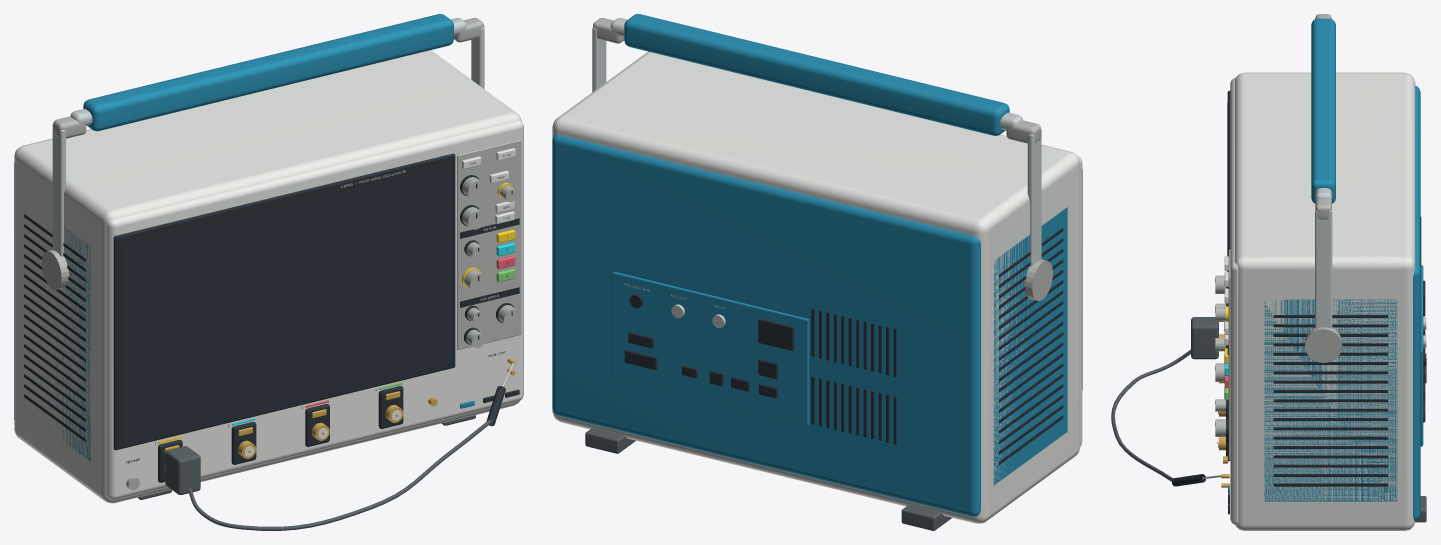
Rendered from mso64b.glb.
3 views of the same model, side by side, from view 1: azimuth 30°, elevation 25°; view 2: azimuth 150°, elevation 25°; view 3: azimuth 270°, elevation 25° (orthographic). The views are drawn at different scales.
Parts seen in each view (by area): view 1: Display_active, Main_enclosure, Front_bezel, Handle_blue_grip, Display_bezel, Controls_field, Side_blue_grille-1, Probe_CH1_lead, Handle_yoke_-1, Probe_CH1_TekVPI, Handle_pivot_hub_-1, Handle_yoke_1 (+3 smaller); view 2: Rear_blue_shell, Main_enclosure, Rear_IO_panel, Handle_blue_grip, Side_blue_grille-1, Handle_yoke_-1, Handle_pivot_hub_-1, IEC_power, Foot_1_72, Foot_-1_72, Front_bezel, Handle_yoke_1; view 3: Main_enclosure, Side_blue_grille1, Handle_blue_grip, Front_bezel, Rear_blue_shell, Handle_yoke_1, Probe_CH1_TekVPI, Handle_pivot_hub_1, Probe_CH1_lead, Rear_IO_panel, Display_bezel, Controls_field (+10 smaller).
Part boxes in pixels (x1,y1,x2,y2): Display_active: (121, 165, 450, 439); Main_enclosure: (14, 50, 521, 503); Front_bezel: (106, 120, 523, 499); Handle_blue_grip: (83, 14, 453, 131); Display_bezel: (113, 153, 455, 450); Controls_field: (457, 140, 521, 349); Side_blue_grille-1: (41, 227, 90, 461); Probe_CH1_lead: (188, 420, 492, 530); Handle_yoke_-1: (52, 125, 65, 256); Probe_CH1_TekVPI: (165, 446, 200, 494); Handle_pivot_hub_-1: (41, 250, 69, 289); Handle_yoke_1: (471, 27, 484, 88); Rear_blue_shell: (552, 134, 980, 516); Main_enclosure: (552, 51, 1080, 523); Rear_IO_panel: (612, 271, 809, 426); Handle_blue_grip: (624, 14, 1009, 135); Side_blue_grille-1: (993, 207, 1067, 485); Handle_yoke_-1: (1027, 129, 1041, 266); Handle_pivot_hub_-1: (1024, 259, 1052, 300); IEC_power: (758, 318, 793, 350); Foot_1_72: (585, 427, 635, 453); Foot_-1_72: (901, 504, 951, 530); Front_bezel: (1078, 156, 1082, 445); Handle_yoke_1: (592, 27, 606, 91); Main_enclosure: (1235, 72, 1415, 530); Side_blue_grille1: (1264, 299, 1397, 501); Handle_blue_grip: (1311, 18, 1335, 203); Front_bezel: (1230, 78, 1238, 525); Rear_blue_shell: (1413, 85, 1420, 520); Handle_yoke_1: (1315, 210, 1332, 328); Probe_CH1_TekVPI: (1191, 317, 1218, 359); Handle_pivot_hub_1: (1305, 327, 1342, 362); Probe_CH1_lead: (1111, 349, 1190, 481); Rear_IO_panel: (1420, 265, 1423, 446); Display_bezel: (1227, 90, 1230, 444); Controls_field: (1228, 249, 1230, 459).
Size of the model in its own units: 0.454 by 0.371 by 0.3058.
